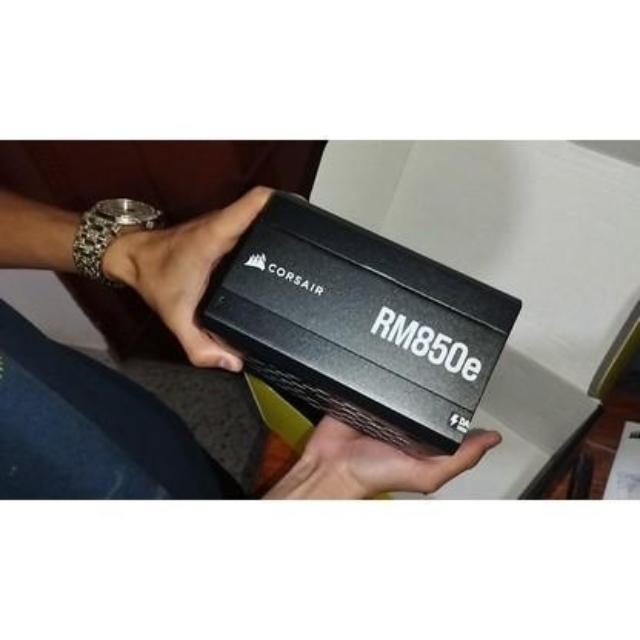PSU: (192, 175, 530, 473)
